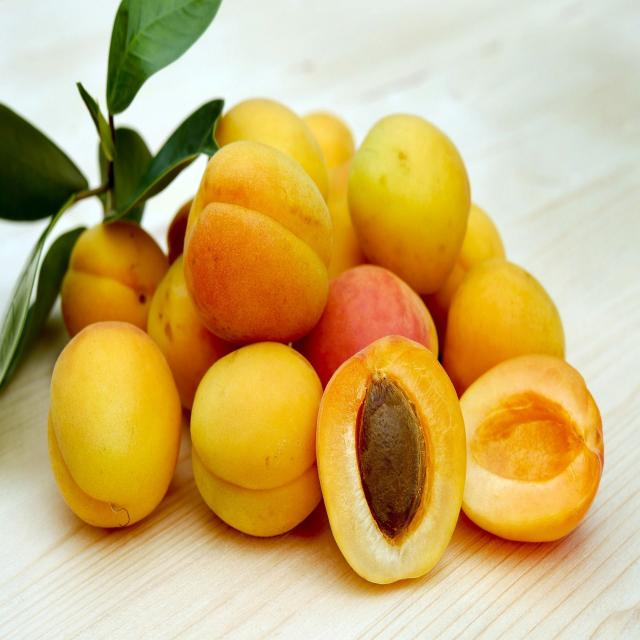Cekirdek: (357, 371, 426, 538)
Kayisi: (460, 355, 604, 541), (49, 322, 181, 522)
